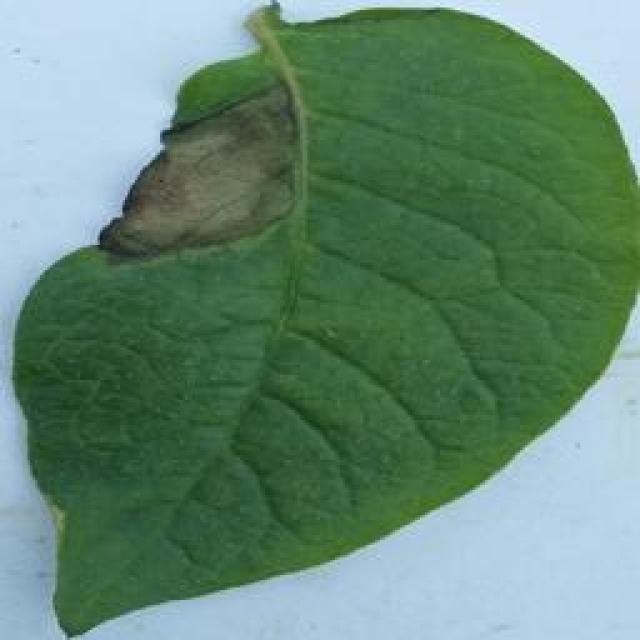Potato_Late_Blight: (17, 9, 627, 636)
